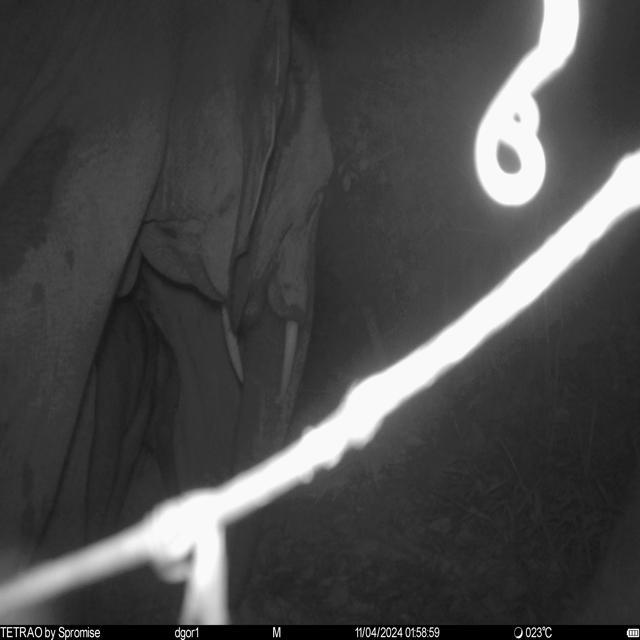calf: (39, 298, 172, 566)
elephant: (0, 2, 337, 624)
tusk: (219, 302, 247, 387), (282, 321, 300, 402)
